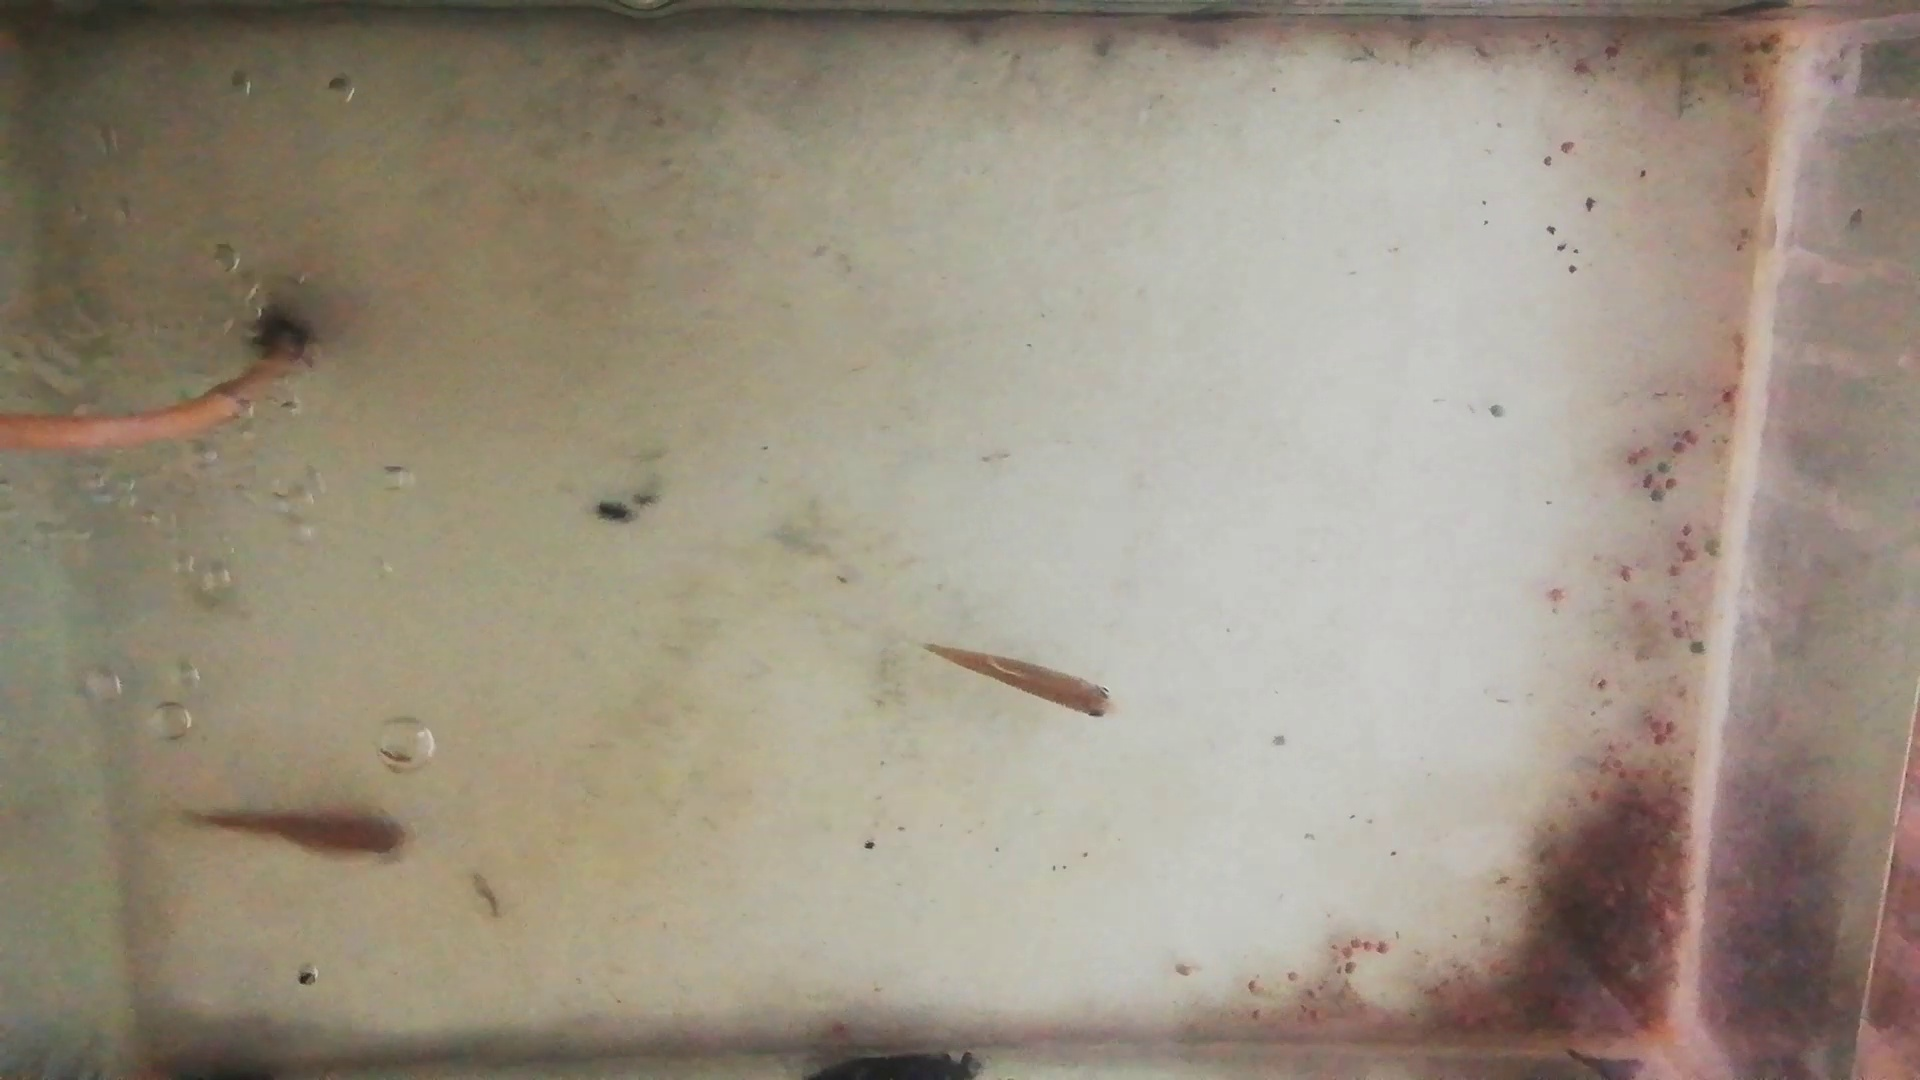fish: (916, 640, 1116, 719), (177, 808, 407, 862)
